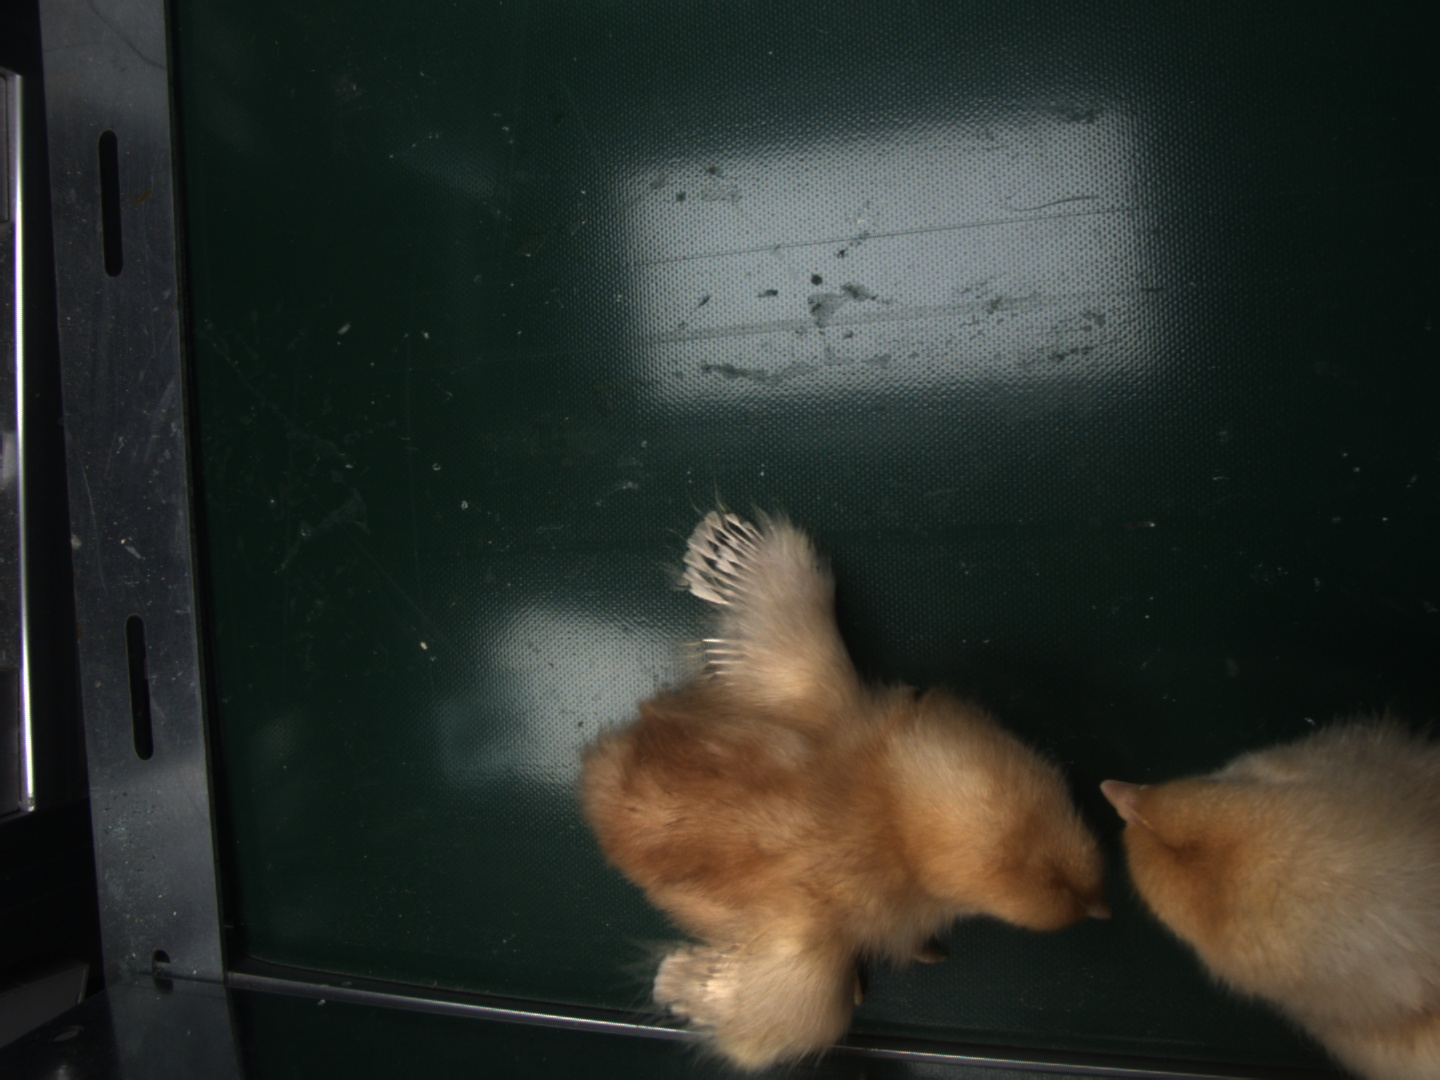female: (686, 514, 771, 609)
